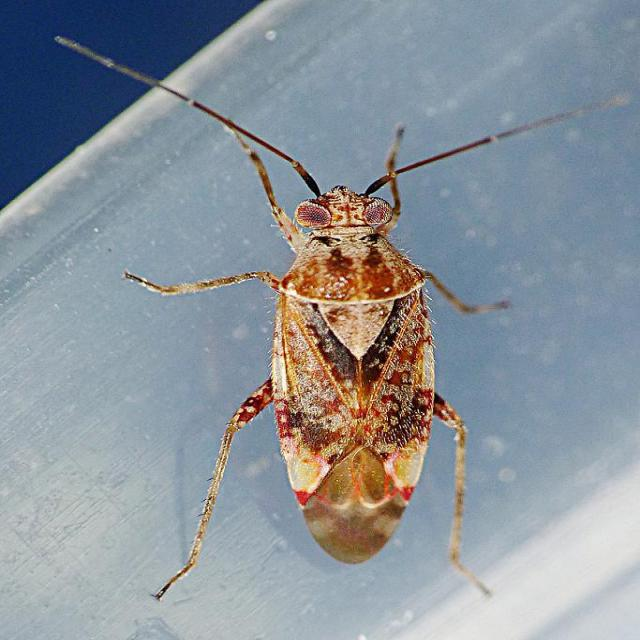Miridae-Adult-: (46, 26, 570, 615)
